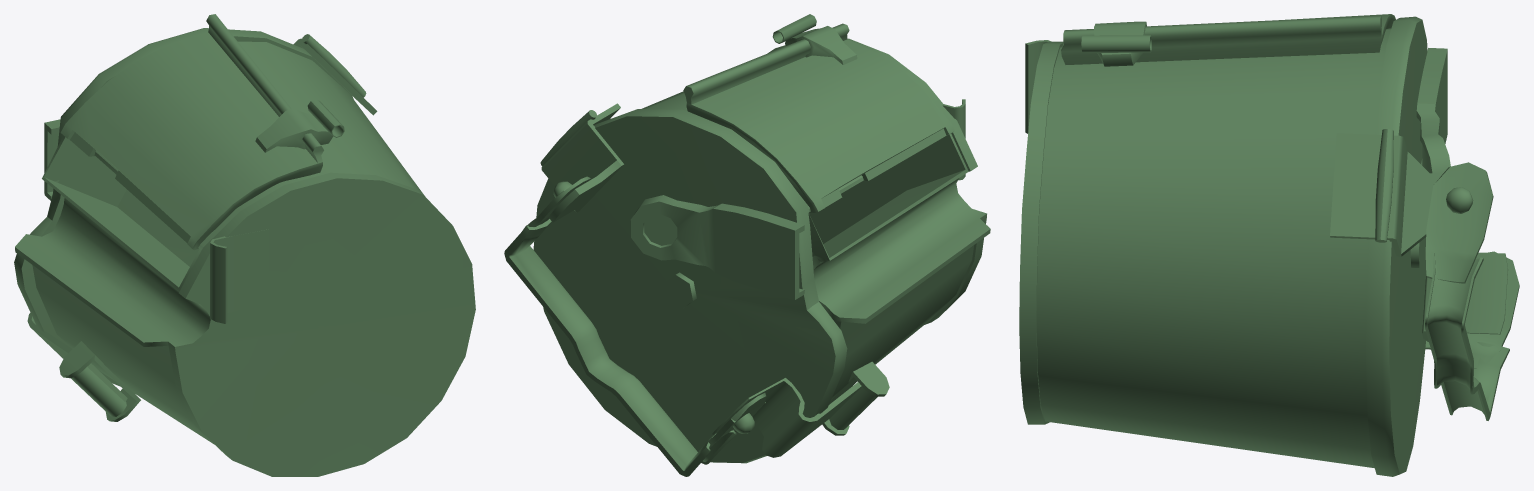
Rendered from DrumMag_Finished.fbx.
3 renders of one model, left to right at view 1: azimuth 30°, elevation 25°; view 2: azimuth 150°, elevation 25°; view 3: azimuth 270°, elevation 25°, orthographic. The views are drawn at different scales.
Visible parts, largest first — view 1: polySurface435; view 2: polySurface435; view 3: polySurface435.
Part boxes in pixels (bbox=[...]): polySurface435: bbox=[14, 14, 475, 476]; polySurface435: bbox=[504, 14, 990, 476]; polySurface435: bbox=[1019, 14, 1519, 476].
Bounding box in the file's own units: 1.08 × 1.1 × 1.13.
